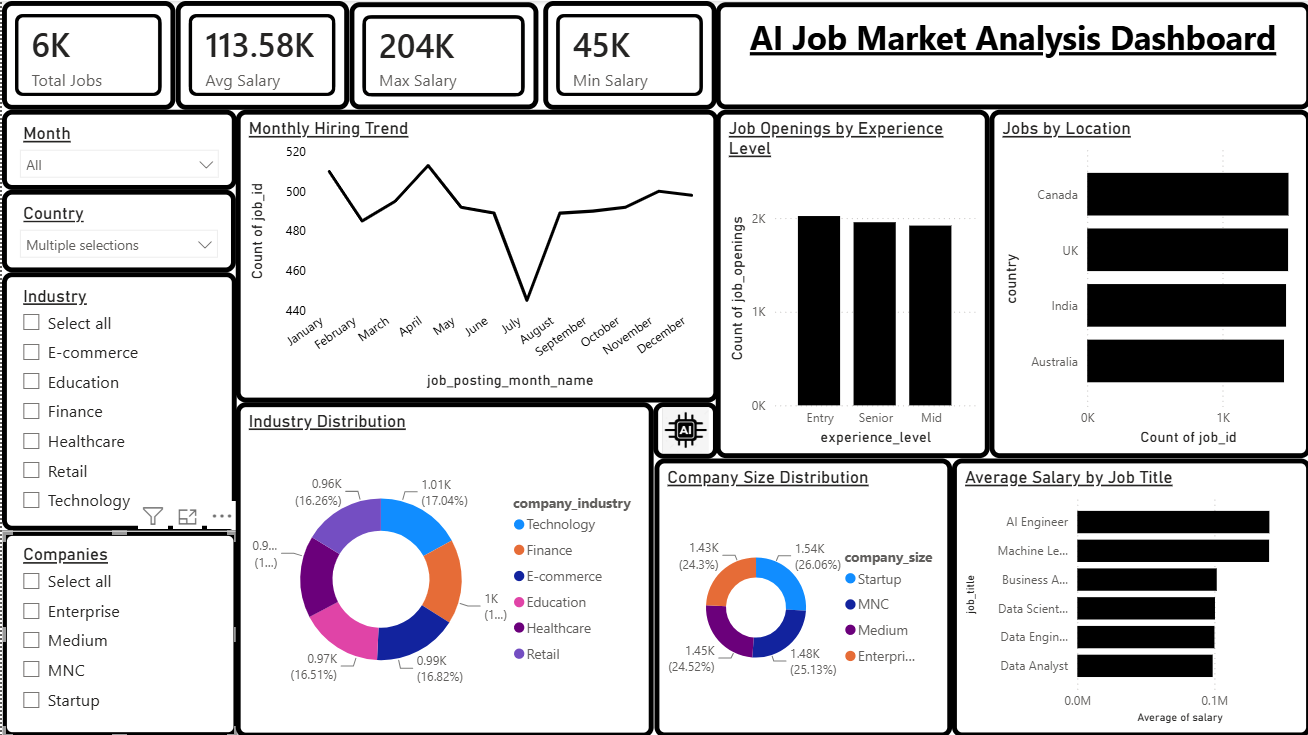

What the dashboard file says about the page in this screenshot:
{"tool":"powerbi","page":{"name":"Page 1","canvas":[1280,720],"ordinal":0},"visuals":[{"type":"cardVisual","fields":{"Data":["AI Job Market Dataset.Total Jobs"]},"box":[0,0,174.9,91.7],"z":0},{"type":"cardVisual","fields":{"Data":["AI Job Market Dataset.Avg Salary"]},"box":[172.4,0,174.9,91.7],"z":1000},{"type":"cardVisual","fields":{"Data":["AI Job Market Dataset.Max Salary"]},"box":[347.3,0,176.1,91.7],"z":2000},{"type":"cardVisual","fields":{"Data":["AI Job Market Dataset.Min Salary"]},"box":[523.4,0,174.9,91.7],"z":3000},{"type":"slicer","title":"Month","fields":{"Values":["AI Job Market Dataset.job_posting_month_name"]},"box":[0,91.7,232.3,88],"z":4000},{"type":"slicer","fields":{"Values":["AI Job Market Dataset.company_industry"]},"box":[0,267.8,231.1,251.9],"z":5000},{"type":"slicer","fields":{"Values":["AI Job Market Dataset.country"]},"box":[0,179.8,231.1,88],"z":6000},{"type":"slicer","fields":{"Values":["AI Job Market Dataset.company_size"]},"box":[0,519.7,232.3,200.5],"z":7000},{"type":"lineChart","title":"Monthly Hiring Trend","fields":{"Category":["AI Job Market Dataset.job_posting_month_name"],"Y":["CountNonNull(AI Job Market Dataset.job_id)"]},"box":[232.3,91.7,524.6,325.3],"z":8000},{"type":"donutChart","title":"Industry Distribution","fields":{"Category":["AI Job Market Dataset.company_industry"],"Y":["CountNonNull(AI Job Market Dataset.job_id)"]},"box":[232.3,417,407.2,303.3],"z":9000},{"type":"clusteredBarChart","title":"Average Salary by Job Title","fields":{"Category":["AI Job Market Dataset.job_title"],"Y":["Avg(AI Job Market Dataset.salary)"]},"box":[950.1,417,330.2,303.3],"z":10000},{"type":"clusteredBarChart","title":"Jobs by Location","fields":{"Category":["AI Job Market Dataset.country"],"Y":["CountNonNull(AI Job Market Dataset.job_id)"]},"box":[989.3,91.7,291,325.3],"z":11000},{"type":"donutChart","title":"Company Size Distribution","fields":{"Category":["AI Job Market Dataset.company_size"],"Y":["CountNonNull(AI Job Market Dataset.job_id)"]},"box":[639.5,417,310.6,303.3],"z":12000},{"type":"textbox","box":[698.2,0,582.1,91.7],"z":13000},{"type":"clusteredColumnChart","title":"Job Openings by Experience Level","fields":{"Category":["AI Job Market Dataset.experience_level"],"Y":["CountNonNull(AI Job Market Dataset.job_openings)"]},"box":[756.9,91.7,232.3,325.3],"z":14000}]}

Visuals, with their boxes in screenshot pixels (x1, y1, x2, y2), scaled from the page's 1280x720 canvas onto the 1308x735 screenshot:
cardVisual - AI Job Market Dataset.Total Jobs: x1=0, y1=0, x2=179, y2=94
cardVisual - AI Job Market Dataset.Avg Salary: x1=176, y1=0, x2=355, y2=94
cardVisual - AI Job Market Dataset.Max Salary: x1=355, y1=0, x2=535, y2=94
cardVisual - AI Job Market Dataset.Min Salary: x1=535, y1=0, x2=714, y2=94
"Month" slicer: x1=0, y1=94, x2=237, y2=183
slicer - AI Job Market Dataset.company_industry: x1=0, y1=273, x2=236, y2=531
slicer - AI Job Market Dataset.country: x1=0, y1=184, x2=236, y2=273
slicer - AI Job Market Dataset.company_size: x1=0, y1=531, x2=237, y2=734
"Monthly Hiring Trend" lineChart: x1=237, y1=94, x2=773, y2=426
"Industry Distribution" donutChart: x1=237, y1=426, x2=653, y2=734
"Average Salary by Job Title" clusteredBarChart: x1=971, y1=426, x2=1307, y2=734
"Jobs by Location" clusteredBarChart: x1=1011, y1=94, x2=1307, y2=426
"Company Size Distribution" donutChart: x1=653, y1=426, x2=971, y2=734
textbox: x1=713, y1=0, x2=1307, y2=94
"Job Openings by Experience Level" clusteredColumnChart: x1=773, y1=94, x2=1011, y2=426
